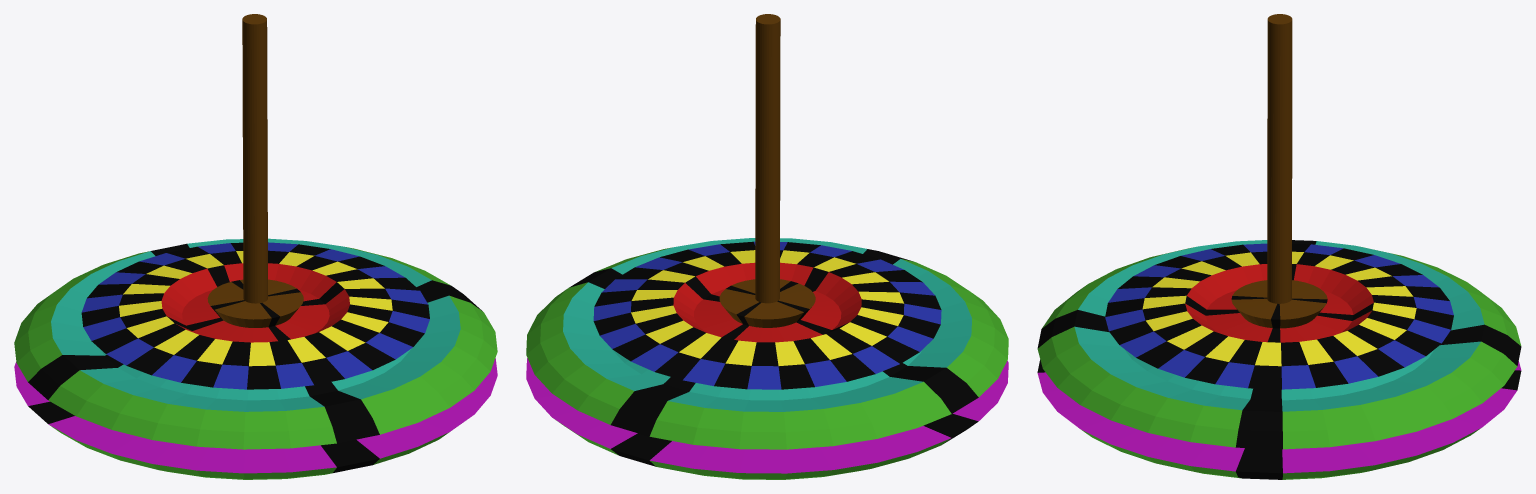
Rendered from Snurretop-patrik 1.fbx.
The picture shows the model from 3 angles, left to right: view 1: azimuth 30°, elevation 25°; view 2: azimuth 150°, elevation 25°; view 3: azimuth 270°, elevation 25°; orthographic projection.
Visible parts, largest first — view 1: Sphere; view 2: Sphere; view 3: Sphere.
Boxes of the visible parts, bbox=[...] form: Sphere: bbox=[14, 14, 497, 479]; Sphere: bbox=[526, 14, 1008, 479]; Sphere: bbox=[1037, 14, 1521, 479].
Bounding box in the file's own units: 535 × 535 × 535.
